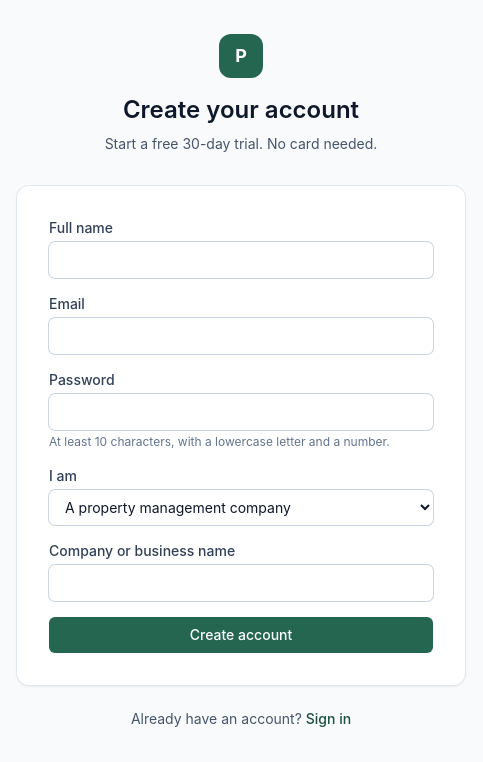
registration › asks for a company name unless joining by invitation
This screenshot has width=483, height=762.
In the field labelled "Full name": (241, 260) [49, 242, 433, 278], type "Seun Adelaja"
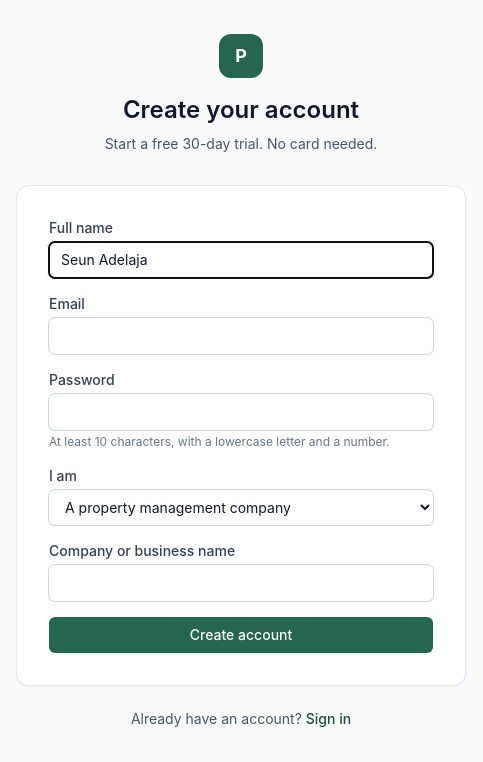
In the field labelled "Email": (241, 336) [49, 318, 433, 354], type "seun@example.com"
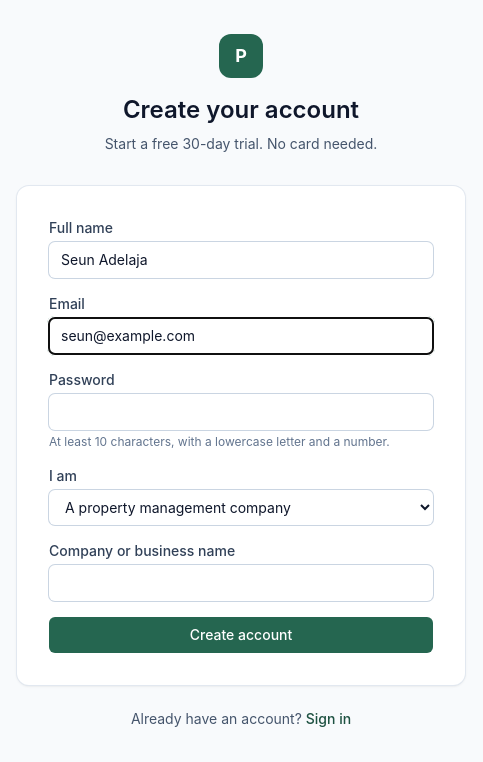
In the password field labelled "Password": (241, 412) [49, 394, 433, 430], type "goodpass123"
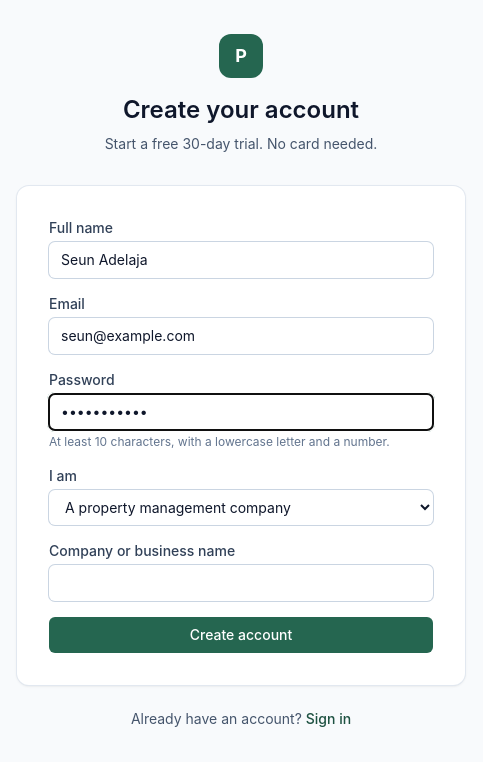
Click the button "Create account": (241, 634) [49, 616, 433, 652]
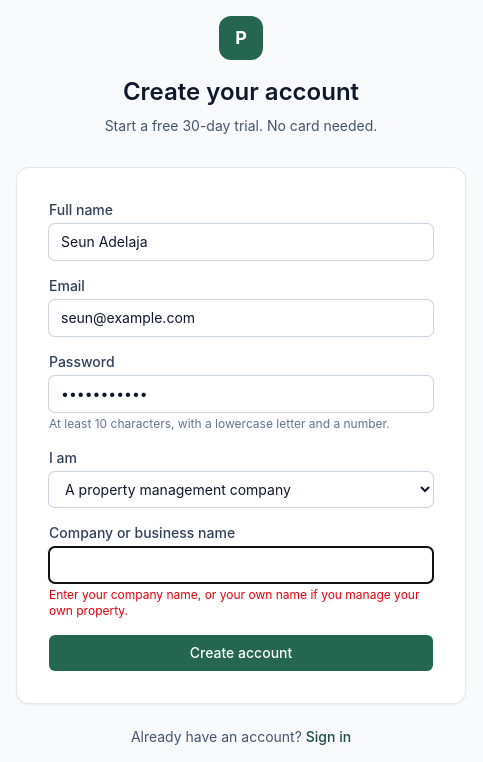
Expected: the text "Enter your company name" is shown, [49, 586, 420, 618]
